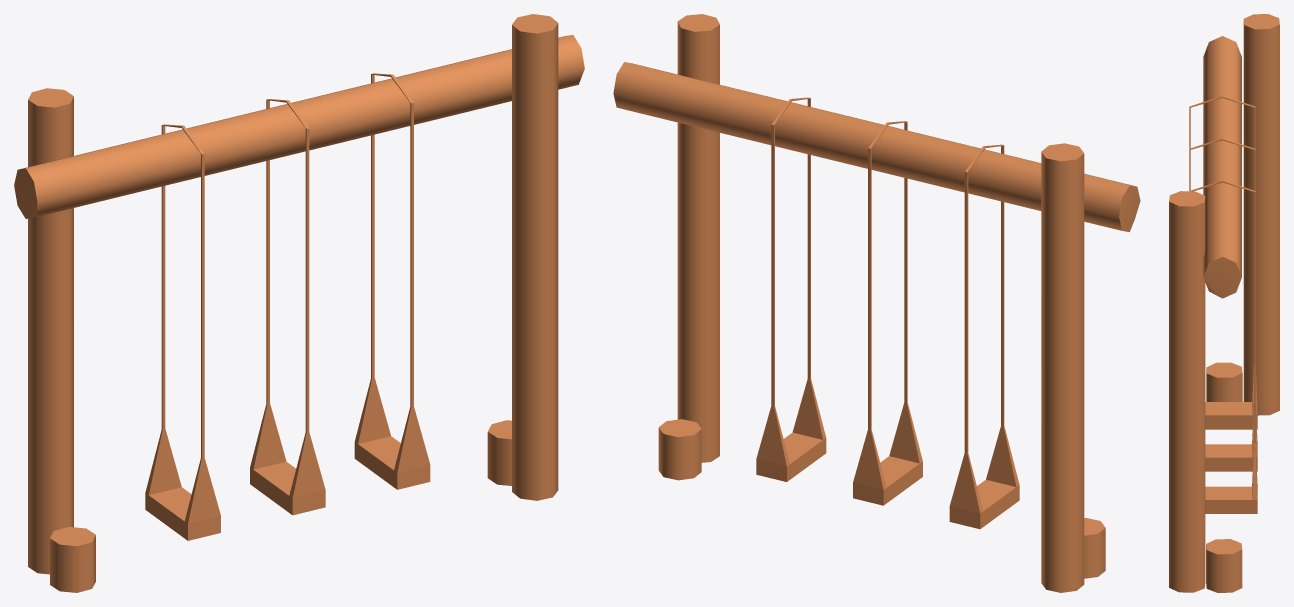
The model's file is Swinging step.obj.
3 views of the same model, side by side, from view 1: azimuth 30°, elevation 25°; view 2: azimuth 150°, elevation 25°; view 3: azimuth 270°, elevation 25° (orthographic). The views are drawn at different scales.
Visible parts, largest first — view 1: Cylinder003; view 2: Cylinder003; view 3: Cylinder003.
Part boxes in pixels (x1,y1,x2,y2): Cylinder003: (14,14,584,592); Cylinder003: (613,14,1140,592); Cylinder003: (1169,14,1279,592).
Bounding box in the file's own units: 113 × 92.05 × 23.85.
